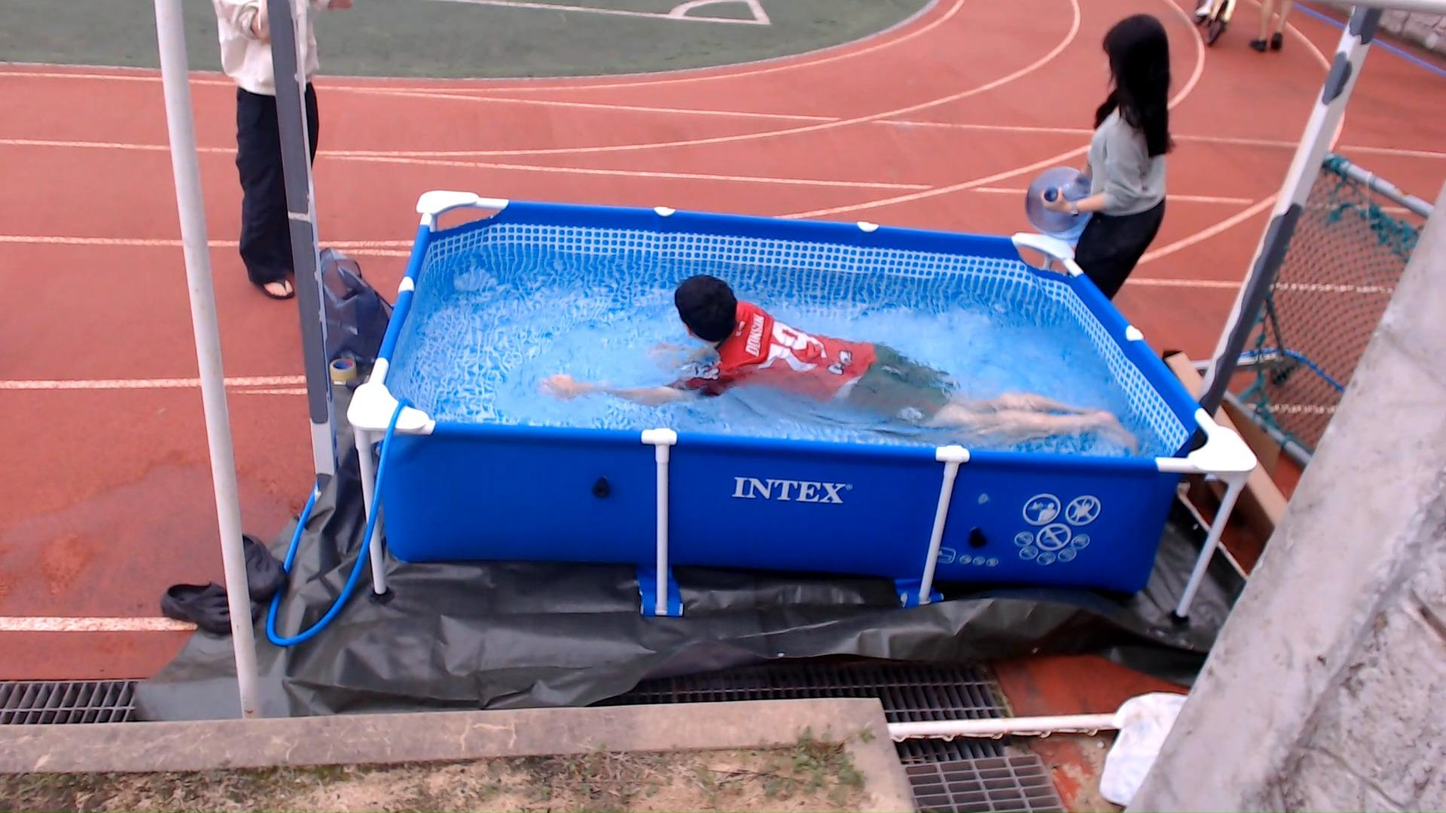Swimming: (531, 237, 1125, 446)
